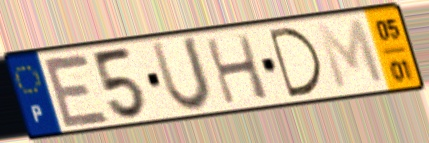5: (89, 44, 150, 123)
D: (265, 25, 326, 101)
E: (39, 52, 114, 130)
H: (201, 31, 272, 107)
M: (313, 16, 389, 94)
U: (147, 34, 216, 115)
